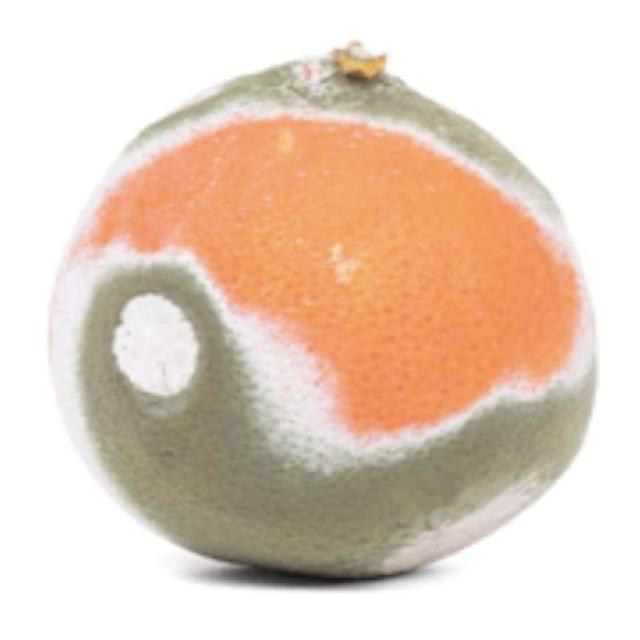sangat-busuk: (51, 46, 595, 576)
